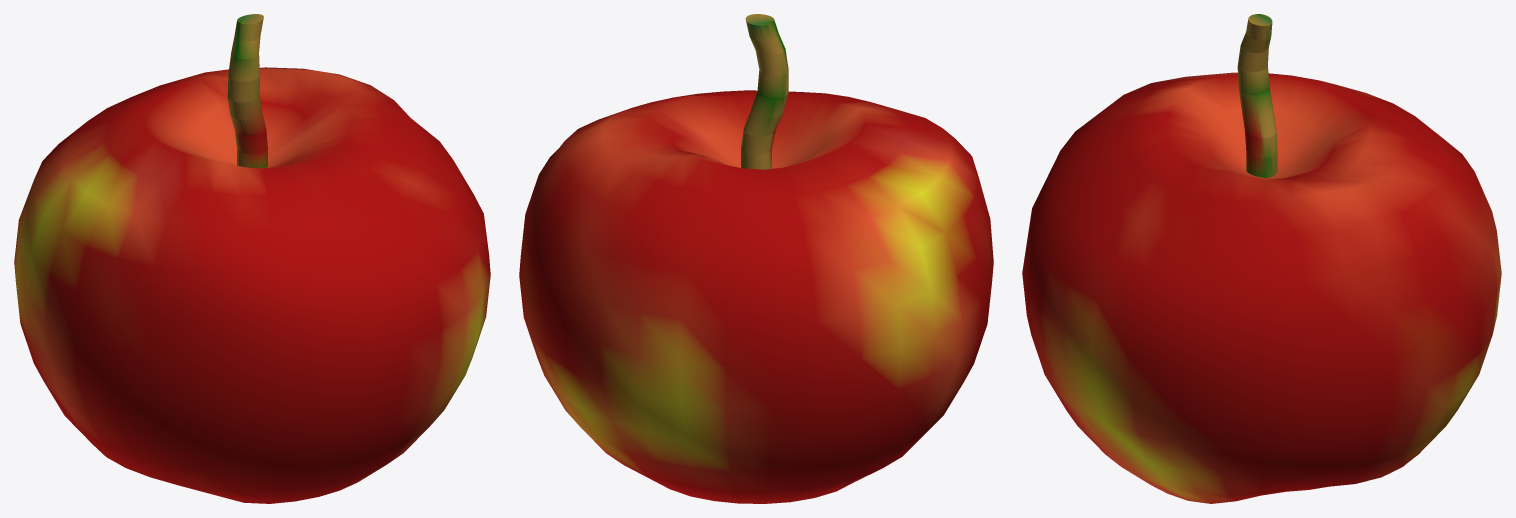
The model's file is apple_1.fbx.
3 renders of one model, left to right at view 1: azimuth 30°, elevation 25°; view 2: azimuth 150°, elevation 25°; view 3: azimuth 270°, elevation 25°, orthographic.
Visible parts, largest first — view 1: Sphere; view 2: Sphere; view 3: Sphere.
Boxes of the visible parts, box(x1,y1,x2,y2) form: Sphere: box(14, 14, 490, 503); Sphere: box(519, 14, 993, 503); Sphere: box(1022, 14, 1501, 503).
Size of the model in its own units: 200 by 207 by 200.
